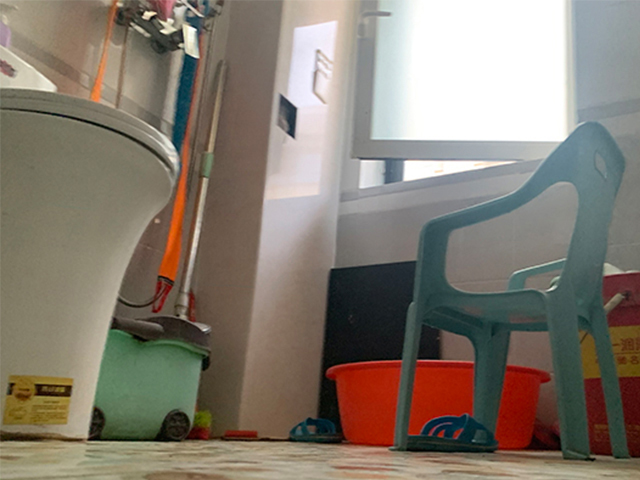closestool: (1, 45, 179, 441)
slippers: (405, 413, 500, 453), (287, 416, 344, 444)
stool: (387, 120, 635, 460)
